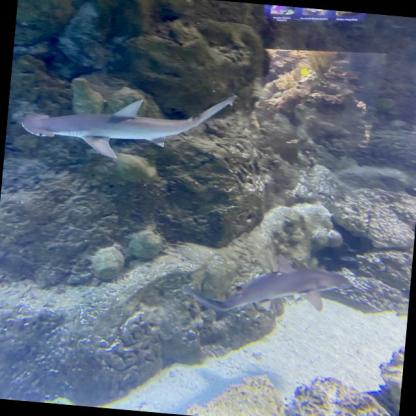shark: (18, 76, 236, 169), (180, 244, 353, 324)
